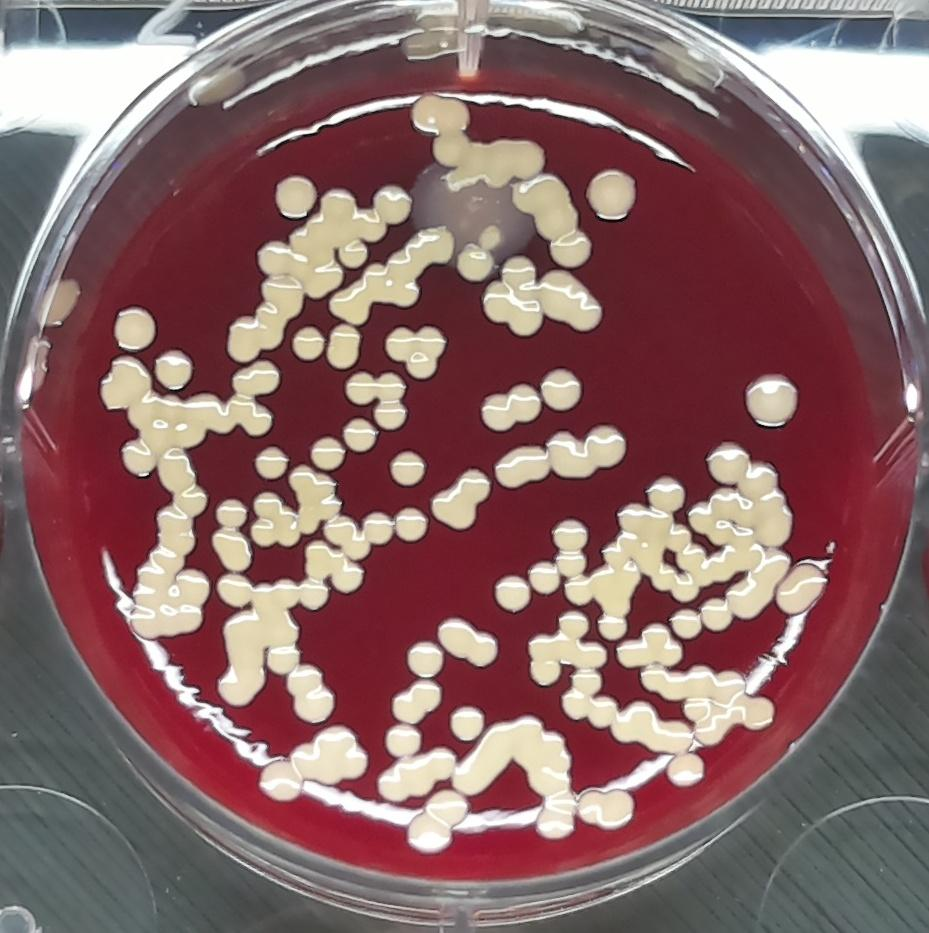staphylo-: (217, 178, 410, 360), (99, 353, 278, 476), (125, 487, 211, 645), (331, 221, 457, 326), (638, 658, 778, 751), (692, 436, 795, 548), (513, 712, 579, 845), (517, 176, 592, 271), (526, 612, 609, 686), (450, 719, 520, 799), (288, 721, 371, 787), (216, 611, 268, 711), (610, 697, 694, 757), (376, 745, 458, 806), (408, 88, 471, 167), (546, 423, 630, 481), (252, 577, 301, 674), (486, 254, 541, 339), (404, 789, 470, 856), (432, 462, 492, 533), (287, 463, 341, 540), (381, 322, 449, 382), (559, 666, 618, 732), (541, 271, 605, 330), (739, 369, 799, 430), (437, 616, 503, 669), (614, 622, 685, 671), (592, 543, 641, 613), (304, 540, 367, 593), (583, 167, 641, 223), (577, 783, 639, 834), (287, 663, 338, 725), (478, 381, 541, 430), (250, 488, 301, 548), (775, 561, 828, 617), (256, 755, 308, 807), (390, 675, 443, 726), (494, 439, 548, 489), (209, 529, 256, 576), (376, 371, 411, 434), (539, 366, 584, 414), (113, 305, 158, 352), (274, 173, 318, 220), (487, 572, 534, 615), (155, 344, 195, 393), (372, 183, 415, 228), (328, 517, 371, 561), (327, 321, 362, 371), (406, 639, 447, 680), (645, 473, 686, 513), (667, 749, 709, 788), (449, 702, 487, 745), (253, 442, 291, 484), (308, 434, 347, 473), (388, 449, 428, 487), (215, 568, 252, 609), (551, 517, 589, 555), (386, 721, 423, 760), (341, 417, 379, 454), (394, 504, 430, 543), (342, 369, 379, 406), (292, 323, 326, 363), (670, 606, 705, 644), (701, 595, 735, 634), (527, 558, 560, 596), (362, 509, 395, 546), (214, 495, 247, 527), (337, 238, 368, 271), (564, 572, 593, 607), (596, 616, 629, 642)
